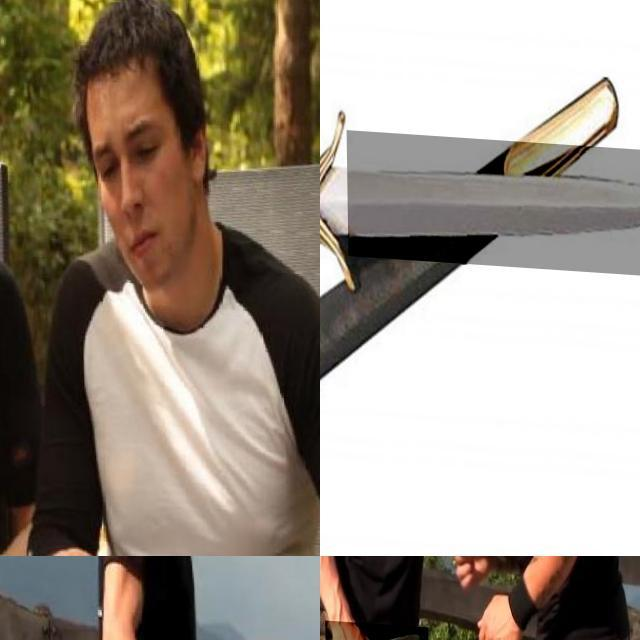-: (346, 126, 640, 271), (0, 311, 39, 497), (323, 617, 427, 640)
